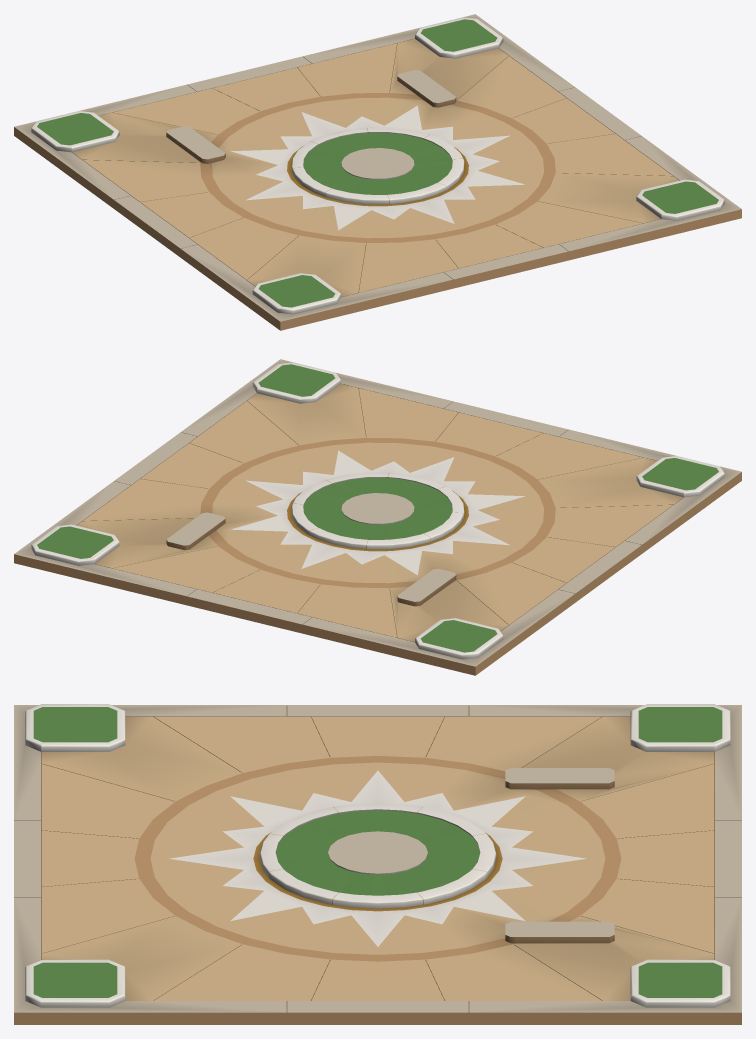
File: road_plaza.fbx
3 renders of one model, top to bottom at view 1: azimuth 30°, elevation 25°; view 2: azimuth 150°, elevation 25°; view 3: azimuth 270°, elevation 25°, orthographic. The views are drawn at different scales.
Visible parts, largest first — view 1: road_plaza; view 2: road_plaza; view 3: road_plaza.
Boxes of the visible parts, x1,y1,x2,y2 form: road_plaza: (14, 14, 741, 330); road_plaza: (14, 359, 741, 675); road_plaza: (14, 704, 741, 1024).
Size of the model in its own units: 16 by 0.45 by 16.
